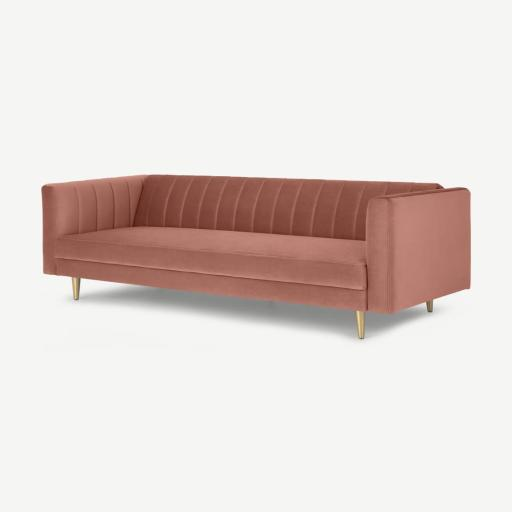back_cushion: (133, 175, 442, 240)
base: (58, 259, 367, 310)
left_arm: (366, 189, 470, 314)
legs: (356, 310, 365, 339), (72, 277, 80, 300), (427, 301, 432, 312)
one-seater: (42, 175, 470, 339)
right_arm: (42, 175, 147, 274)
seat_cushion: (54, 227, 366, 290)
